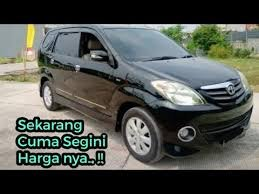mobil: (34, 26, 259, 159)
